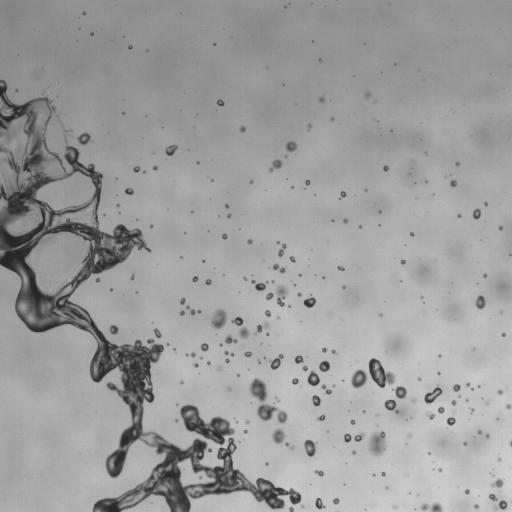droplet: (368, 358, 396, 387), (368, 431, 386, 456), (266, 285, 287, 306), (211, 309, 227, 329), (424, 386, 442, 403), (351, 369, 367, 388), (384, 399, 400, 413), (304, 439, 316, 457), (269, 354, 283, 369), (392, 386, 407, 399), (272, 429, 285, 444), (307, 370, 319, 386), (269, 159, 282, 172), (77, 133, 91, 145), (475, 295, 485, 309), (304, 295, 315, 307), (285, 141, 297, 151), (165, 145, 177, 155), (491, 478, 503, 488), (319, 361, 329, 372), (225, 334, 237, 343), (312, 395, 321, 406), (315, 498, 324, 509), (109, 325, 118, 334), (446, 416, 455, 425), (473, 209, 480, 219), (154, 328, 161, 338), (200, 343, 208, 351), (295, 355, 303, 363), (453, 384, 460, 391), (437, 406, 444, 413), (427, 412, 434, 419), (318, 95, 324, 103), (125, 188, 133, 194), (315, 470, 323, 476), (217, 99, 223, 106), (133, 166, 140, 172), (450, 180, 457, 186), (332, 498, 339, 504), (317, 415, 325, 420), (240, 126, 246, 132), (340, 191, 346, 197), (289, 256, 295, 262), (192, 276, 198, 282), (205, 279, 211, 285), (265, 310, 271, 316), (292, 378, 298, 384), (180, 297, 185, 304), (244, 351, 251, 356), (365, 92, 370, 98), (383, 165, 388, 171), (302, 365, 307, 371), (497, 389, 503, 394), (411, 397, 416, 403), (152, 165, 157, 170), (222, 234, 227, 239), (247, 239, 252, 244), (331, 349, 336, 354), (190, 352, 195, 357), (451, 400, 456, 405), (506, 404, 511, 409), (469, 408, 474, 413), (474, 504, 479, 509), (307, 124, 311, 130), (338, 266, 344, 270), (216, 366, 222, 370), (305, 180, 309, 185), (343, 218, 347, 223), (401, 259, 405, 264), (180, 310, 184, 315), (225, 358, 229, 363), (275, 397, 279, 402), (351, 419, 355, 424), (477, 430, 482, 434), (128, 45, 132, 49), (330, 117, 334, 121), (455, 162, 459, 166), (297, 292, 301, 296), (322, 348, 326, 352), (194, 363, 198, 367), (174, 418, 178, 422), (485, 434, 489, 438), (497, 457, 501, 461), (438, 468, 442, 472), (381, 472, 385, 476), (198, 475, 202, 479), (465, 489, 469, 493), (225, 204, 228, 208), (227, 214, 231, 217), (457, 214, 461, 217), (498, 226, 502, 229), (410, 232, 413, 236), (483, 273, 486, 277), (96, 278, 99, 282), (342, 285, 345, 289), (502, 332, 505, 336), (417, 377, 421, 380), (486, 401, 489, 405), (408, 433, 411, 437), (82, 12, 85, 15), (150, 225, 153, 228), (358, 225, 361, 228), (243, 277, 246, 280), (207, 361, 210, 364), (257, 360, 260, 363), (227, 387, 230, 390), (246, 420, 249, 423), (244, 430, 247, 433), (463, 442, 466, 445), (352, 451, 355, 454), (393, 505, 396, 508), (250, 180, 252, 183), (484, 203, 487, 205), (116, 204, 119, 206), (110, 288, 112, 291), (437, 372, 440, 374), (236, 374, 239, 376), (15, 89, 17, 91), (59, 121, 61, 123), (143, 171, 145, 173), (277, 241, 279, 243), (299, 274, 301, 276), (500, 311, 502, 313), (380, 314, 382, 316), (473, 348, 475, 350), (181, 381, 183, 383), (491, 474, 493, 476)
ligament: (0, 79, 303, 511), (249, 378, 287, 423), (232, 317, 250, 339), (489, 494, 507, 509), (344, 432, 364, 442), (420, 502, 442, 511), (254, 322, 269, 334), (251, 280, 266, 290), (271, 263, 285, 273), (186, 305, 200, 314), (278, 243, 286, 257), (321, 385, 331, 394), (285, 442, 295, 450), (465, 382, 473, 390), (224, 351, 233, 356), (131, 274, 134, 280), (509, 440, 511, 446)
